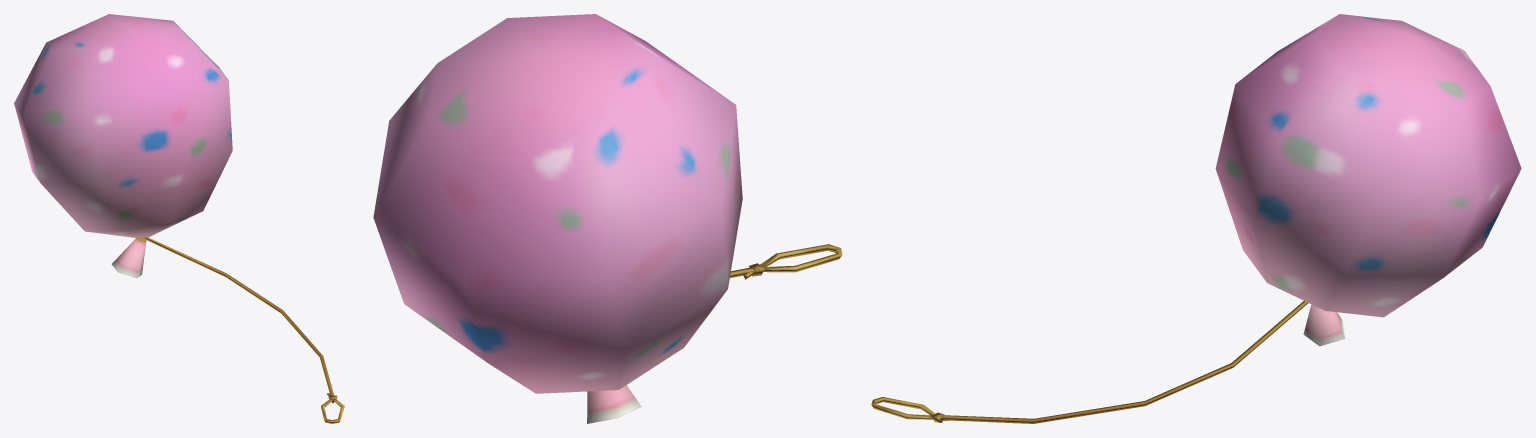
Rendered from jsf_WaterBalloon_19_e.fbx.
The picture shows the model from 3 angles, left to right: view 1: azimuth 30°, elevation 25°; view 2: azimuth 150°, elevation 25°; view 3: azimuth 270°, elevation 25°; orthographic projection. The views are drawn at different scales.
Visible parts, largest first — view 1: jsf_WaterBalloon_19_e; view 2: jsf_WaterBalloon_19_e; view 3: jsf_WaterBalloon_19_e.
Boxes of the visible parts, left/top/right/bottom form: jsf_WaterBalloon_19_e: left=14, top=14, right=344, bottom=423; jsf_WaterBalloon_19_e: left=373, top=14, right=842, bottom=423; jsf_WaterBalloon_19_e: left=871, top=14, right=1521, bottom=423.
Bounding box in the file's own units: 10.92 × 14.38 × 23.6.
